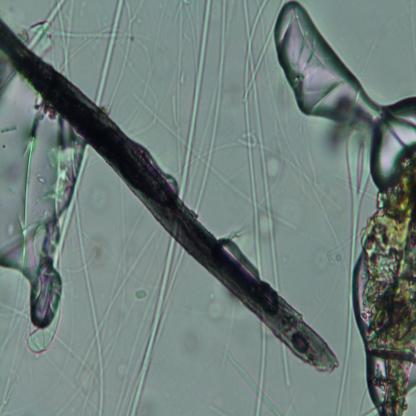Air bubble: (270, 0, 416, 185), (0, 53, 80, 326)
Background material: (361, 159, 416, 411)
Cotton: (0, 21, 340, 379), (240, 1, 266, 278)
Glass filter fibre: (131, 92, 297, 235), (336, 124, 372, 415), (124, 236, 176, 416), (72, 194, 110, 415), (178, 3, 216, 199), (224, 349, 284, 414), (94, 1, 124, 106), (24, 1, 66, 49), (278, 345, 296, 389), (168, 90, 180, 125), (238, 130, 258, 150)
